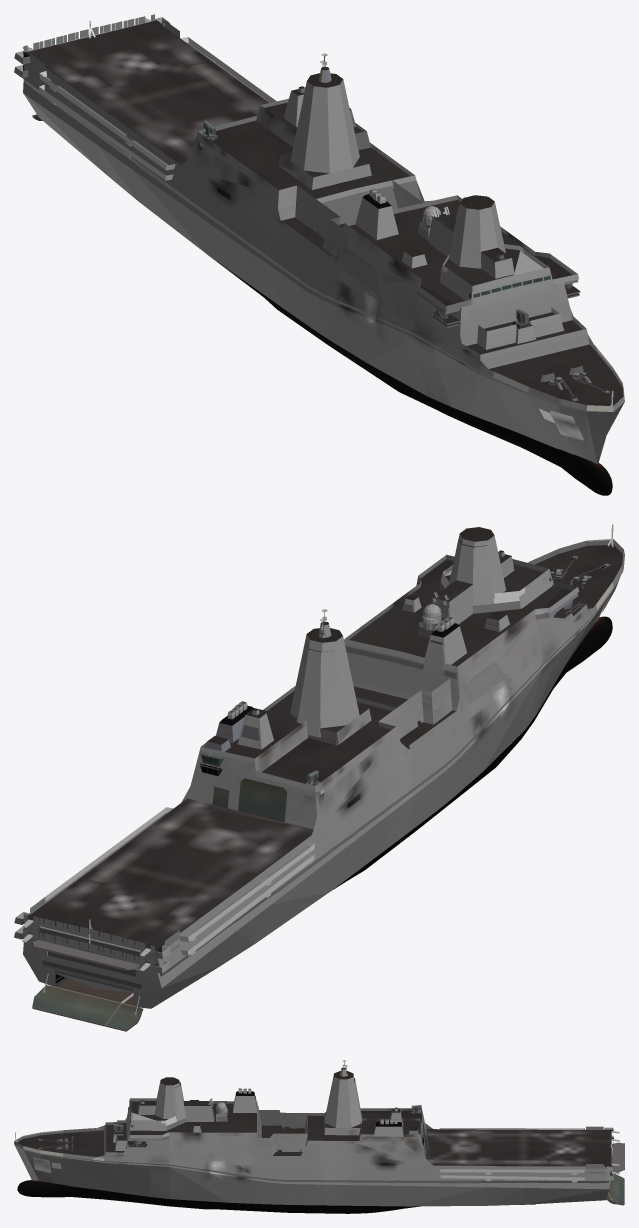
File: LPD17.fbx
The picture shows the model from 3 angles, top to bottom: view 1: azimuth 30°, elevation 25°; view 2: azimuth 150°, elevation 25°; view 3: azimuth 270°, elevation 25°; orthographic projection. The views are drawn at different scales.
Visible parts, largest first — view 1: LPD17; view 2: LPD17; view 3: LPD17.
Boxes of the visible parts, x1=… form: LPD17: x1=14, y1=14, x2=624, y2=495; LPD17: x1=14, y1=524, x2=624, y2=1031; LPD17: x1=14, y1=1060, x2=624, y2=1213.
Size of the model in its own units: 34.26 by 55.3 by 213.
1 material, 1 textured.
